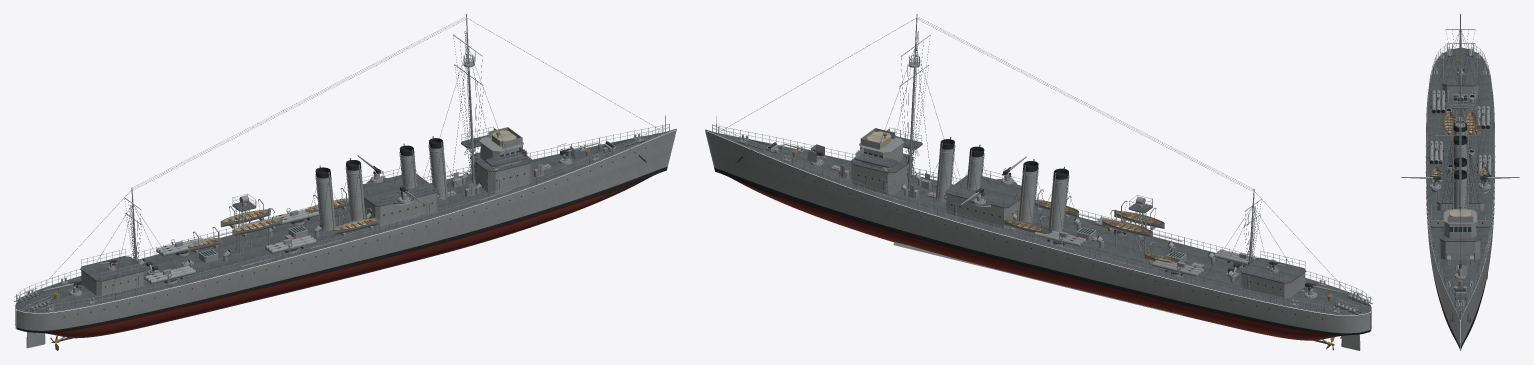
File: clemson.glb
3 views of the same model, side by side, from view 1: azimuth 30°, elevation 25°; view 2: azimuth 150°, elevation 25°; view 3: azimuth 270°, elevation 25° (orthographic). The views are drawn at different scales.
Visible parts, largest first — view 1: Clemson class, original interwar destroyer fit; view 2: Clemson class, original interwar destroyer fit; view 3: Clemson class, original interwar destroyer fit.
Part boxes in pixels (x1,y1,x2,y2): Clemson class, original interwar destroyer fit: [14, 14, 676, 350]; Clemson class, original interwar destroyer fit: [705, 14, 1372, 350]; Clemson class, original interwar destroyer fit: [1401, 14, 1519, 350].
Size of the model in its own units: 95.83 by 31.61 by 16.48.
Materials: 11 (10 with a texture image).
